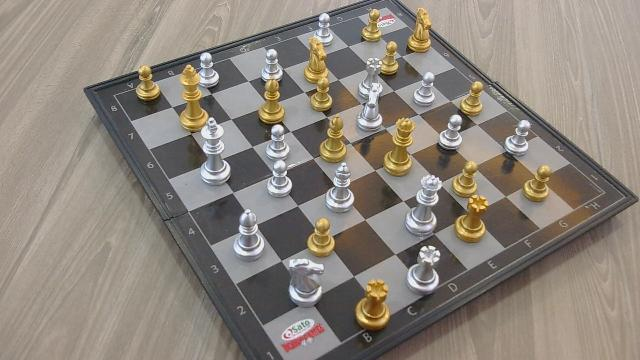black_bishop: (318, 115, 348, 163), (258, 78, 286, 125)
black_king: (176, 63, 204, 127)
black_knight: (304, 36, 329, 84), (409, 7, 434, 52)
black_pawn: (308, 218, 336, 258), (523, 165, 553, 202), (453, 160, 480, 196), (136, 64, 161, 102), (461, 81, 486, 116), (311, 79, 334, 113), (380, 40, 401, 77), (362, 9, 382, 42)
black_queen: (385, 115, 417, 175)
black_rook: (353, 277, 394, 331), (456, 194, 490, 243)
white_bishop: (232, 205, 267, 260), (328, 162, 355, 212)
white_king: (198, 115, 232, 184)
white_knight: (282, 256, 328, 310), (360, 83, 382, 131)
white_pawn: (504, 119, 534, 158), (439, 114, 464, 154), (267, 161, 293, 198), (266, 124, 290, 159), (198, 52, 219, 88), (416, 72, 436, 107), (263, 48, 283, 82), (316, 13, 335, 45)
white_queen: (404, 174, 444, 238)
white_rook: (407, 245, 441, 296)
